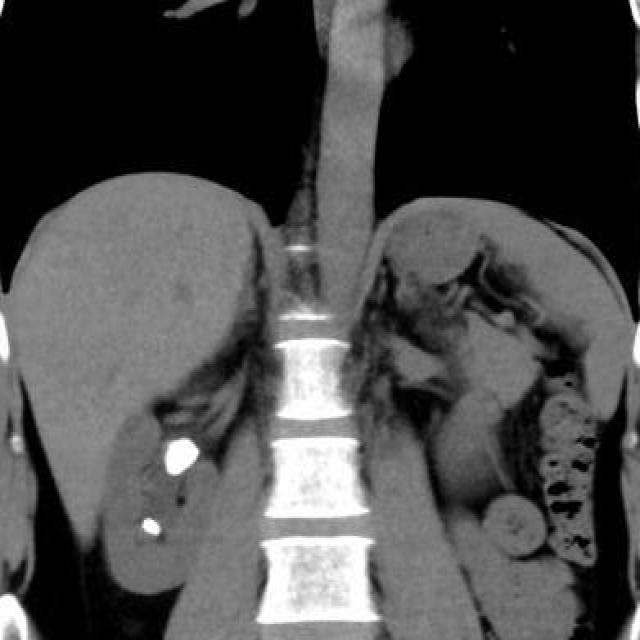Tas_Var: (163, 434, 200, 484), (138, 514, 162, 542)
